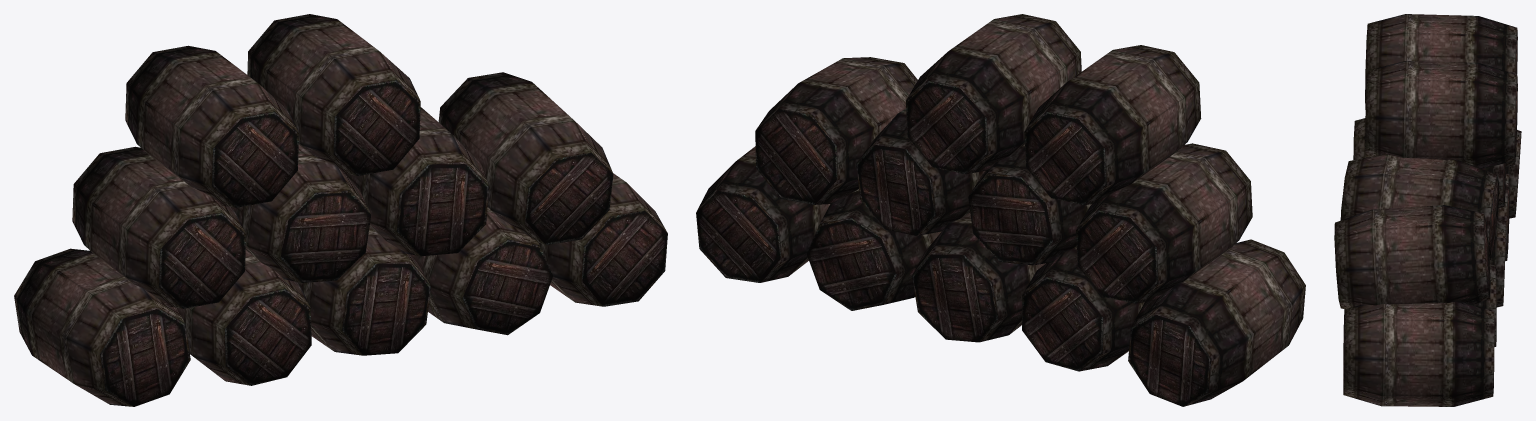
The model's file is OC_BARRELS_REIHE.glb.
3 renders of one model, left to right at view 1: azimuth 30°, elevation 25°; view 2: azimuth 150°, elevation 25°; view 3: azimuth 270°, elevation 25°, orthographic. The views are drawn at different scales.
Parts seen in each view (by area): view 1: Mesh; view 2: Mesh; view 3: Mesh.
Boxes of the visible parts, box(x1,y1,x2,y2) form: Mesh: box(14, 14, 667, 406); Mesh: box(696, 14, 1305, 406); Mesh: box(1334, 14, 1521, 406).
Size of the model in its own units: 3.99 by 1.96 by 1.38.
Materials: 1 (1 with a texture image).
